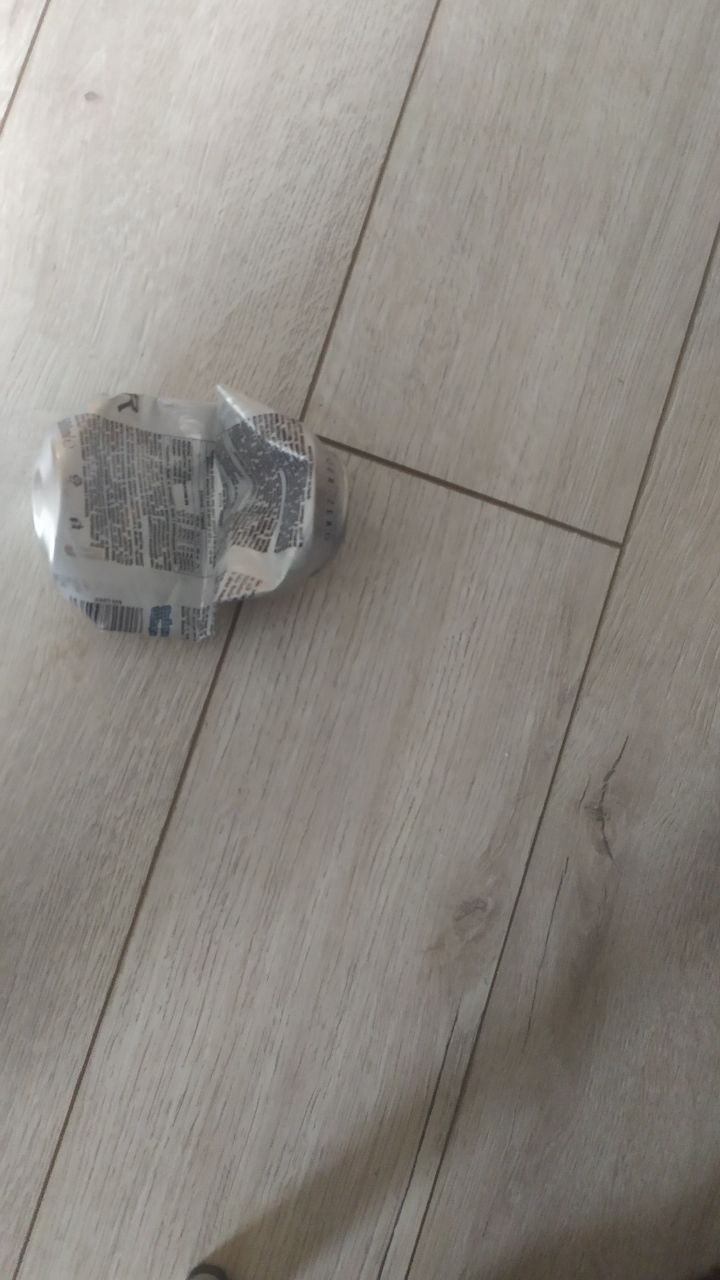Can: (39, 388, 356, 639)
